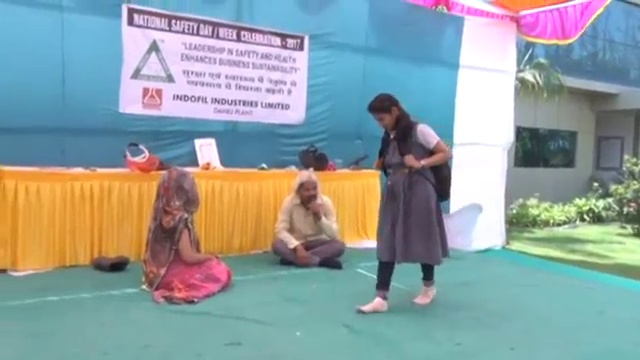helmet_off: (153, 169, 200, 214), (367, 93, 403, 134), (295, 170, 320, 209)
person: (348, 92, 456, 317), (142, 168, 233, 306), (269, 166, 346, 271)
